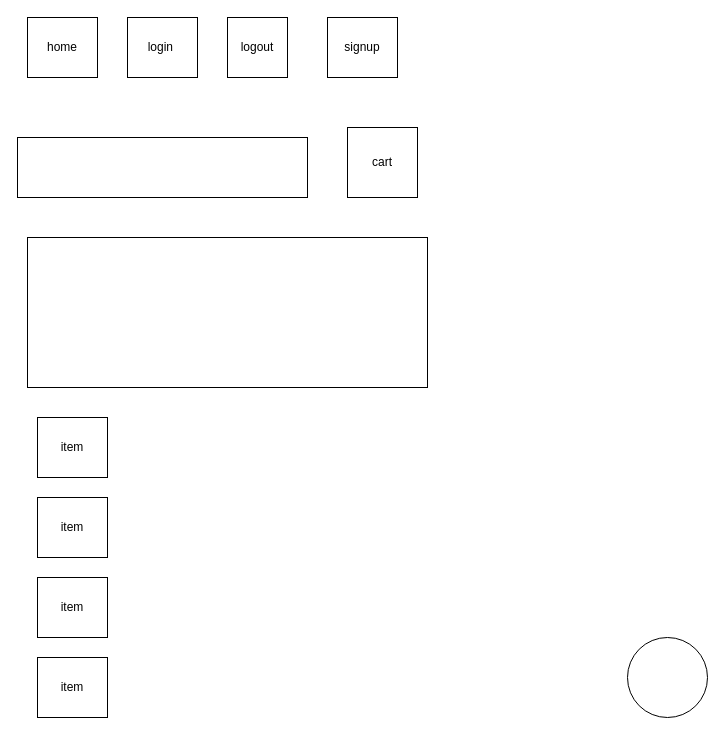
The diagram is 725 pixels wide and 735 high, and some of its shapes have lost their labels. The centre of each missing label's shape, as x and y in pixels:
"contax with chat ai" goes at pixel 667 677.
"input" goes at pixel 162 167.
"silde" goes at pixel 227 312.
